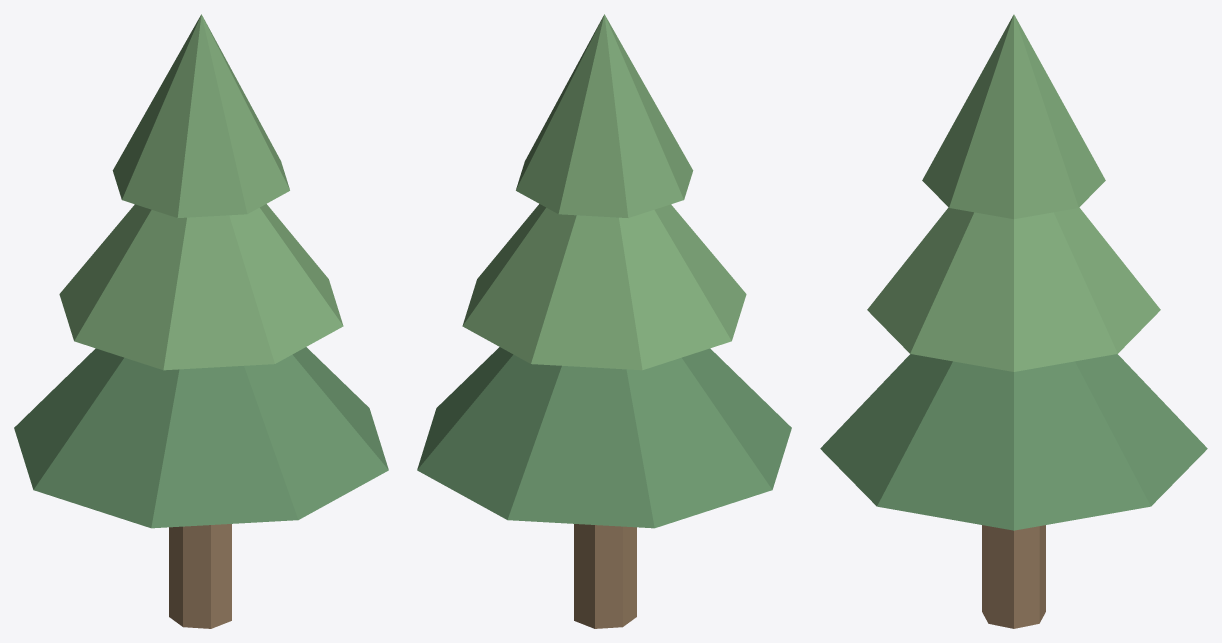
The model's file is tree_pine.glb.
3 renders of one model, left to right at view 1: azimuth 30°, elevation 25°; view 2: azimuth 150°, elevation 25°; view 3: azimuth 270°, elevation 25°, orthographic.
Visible parts, largest first — view 1: tree_pine_01, tree_pine_02, tree_pine_03, tree_pine_00; view 2: tree_pine_01, tree_pine_02, tree_pine_03, tree_pine_00; view 3: tree_pine_01, tree_pine_02, tree_pine_03, tree_pine_00.
Boxes of the visible parts, x1,y1,x2,y2 form: tree_pine_01: (14, 347, 388, 528); tree_pine_02: (59, 204, 343, 370); tree_pine_03: (112, 14, 289, 217); tree_pine_00: (169, 524, 231, 628); tree_pine_01: (417, 347, 791, 528); tree_pine_02: (462, 204, 746, 370); tree_pine_03: (516, 14, 693, 217); tree_pine_00: (574, 524, 636, 628); tree_pine_01: (820, 354, 1207, 530); tree_pine_02: (867, 207, 1160, 371); tree_pine_03: (922, 14, 1105, 219); tree_pine_00: (982, 525, 1045, 628).
Size of the model in its own units: 1.9 by 3.25 by 1.9.
